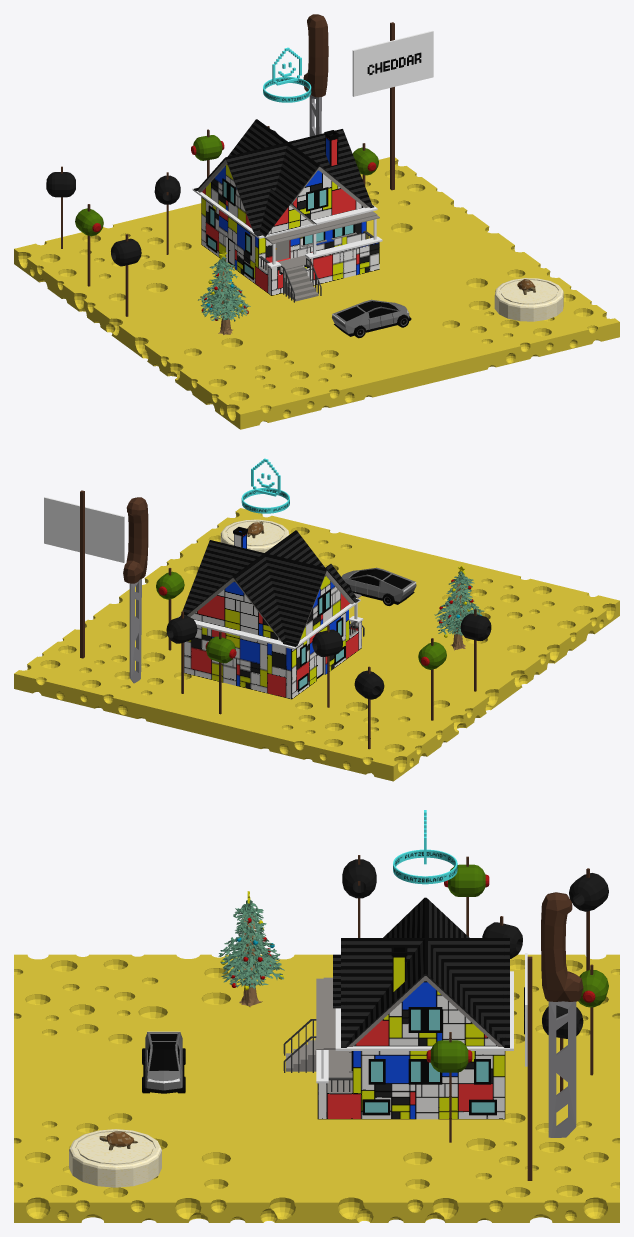
The picture shows the model from 3 angles, top to bottom: view 1: azimuth 30°, elevation 25°; view 2: azimuth 150°, elevation 25°; view 3: azimuth 270°, elevation 25°; orthographic projection. The views are drawn at different scales.
Visible parts, largest first — view 1: Cube.022, Cube.840, Cube.023, Cylinder.016, Cube.024, OBJRANDOM_CHRISTMAS_TREE, VEHICLES_CYBERTRUCK, TYPE_PREMIUM, Sphere.017, Sphere.018, Sphere.016, Sphere.020 (+2 smaller); view 2: Cube.022, Cube.840, Cube.023, Cube.024, VEHICLES_CYBERTRUCK, OBJRANDOM_CHRISTMAS_TREE, Cylinder.016, TYPE_PREMIUM, Sphere.021, Sphere.017, Sphere.020, Sphere.022 (+3 smaller); view 3: Cube.022, Cube.840, Cube.024, Cylinder.016, OBJRANDOM_CHRISTMAS_TREE, VEHICLES_CYBERTRUCK, Cube.023, Sphere.019, Sphere.016, TYPE_PREMIUM, Sphere.017, Sphere.018 (+3 smaller).
Part boxes in pixels (box(x1,y1,x2,y2)): Cube.022: box(14, 157, 619, 429); Cube.840: box(192, 119, 382, 302); Cube.023: box(352, 22, 433, 190); Cylinder.016: box(494, 278, 563, 321); Cube.024: box(303, 14, 328, 136); OBJRANDOM_CHRISTMAS_TREE: box(198, 251, 250, 334); VEHICLES_CYBERTRUCK: box(332, 299, 411, 338); TYPE_PREMIUM: box(263, 47, 311, 102); Sphere.017: box(111, 234, 141, 316); Sphere.018: box(75, 204, 103, 286); Sphere.016: box(46, 166, 75, 248); Sphere.020: box(154, 172, 180, 254); Cube.022: box(14, 508, 619, 781); Cube.840: box(178, 527, 364, 699); Cube.023: box(44, 490, 124, 658); Cube.024: box(123, 497, 148, 683); VEHICLES_CYBERTRUCK: box(341, 567, 416, 605); OBJRANDOM_CHRISTMAS_TREE: box(434, 565, 484, 650); Cylinder.016: box(220, 519, 289, 552); TYPE_PREMIUM: box(241, 458, 289, 513); Sphere.021: box(166, 611, 197, 693); Sphere.017: box(460, 609, 491, 691); Sphere.020: box(312, 625, 342, 707); Sphere.022: box(205, 631, 236, 714); Cube.022: box(14, 954, 619, 1222); Cube.840: box(283, 897, 513, 1119); Cube.024: box(541, 892, 583, 1137); Cylinder.016: box(69, 1129, 161, 1187); OBJRANDOM_CHRISTMAS_TREE: box(218, 891, 284, 1007); VEHICLES_CYBERTRUCK: box(142, 1031, 185, 1093); Cube.023: box(524, 953, 532, 1180); Sphere.019: box(426, 1032, 472, 1142); Sphere.016: box(569, 868, 608, 970); TYPE_PREMIUM: box(393, 810, 457, 884); Sphere.017: box(342, 855, 376, 937); Sphere.018: box(444, 856, 489, 936).
Bounding box in the file's own units: 3917 × 2227 × 4000.
Materials: 37 (5 with a texture image).
